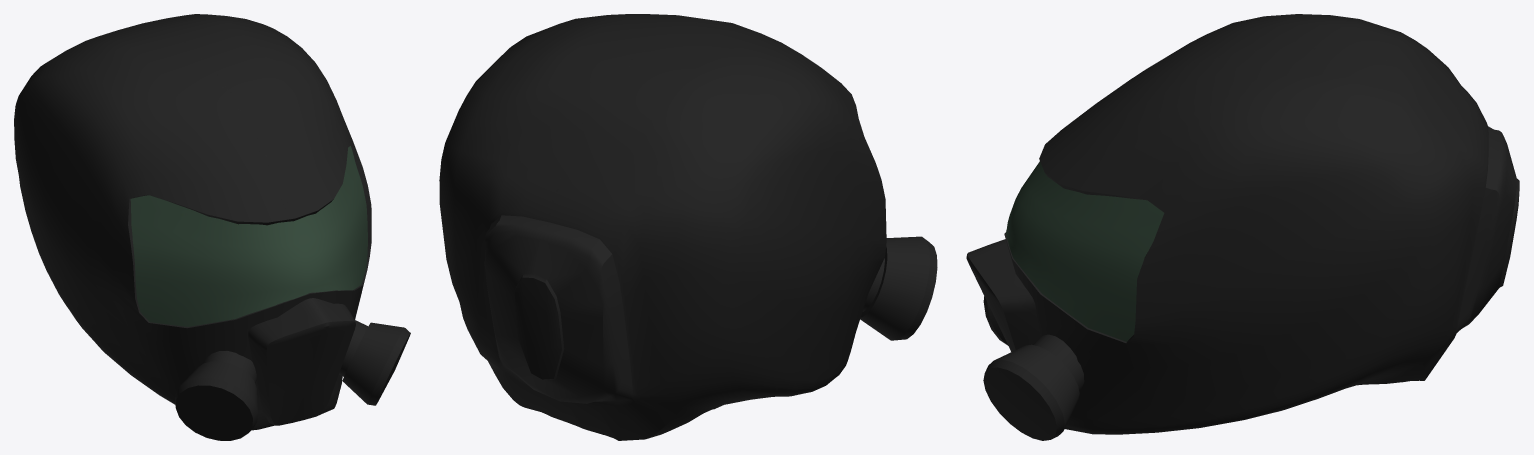
Rendered from body.001.fbx.
3 renders of one model, left to right at view 1: azimuth 30°, elevation 25°; view 2: azimuth 150°, elevation 25°; view 3: azimuth 270°, elevation 25°, orthographic. The views are drawn at different scales.
Visible parts, largest first — view 1: body.001_Baked; view 2: body.001_Baked; view 3: body.001_Baked.
Boxes of the visible parts, left/top/right/bottom form: body.001_Baked: left=14, top=14, right=410, bottom=440; body.001_Baked: left=439, top=14, right=937, bottom=440; body.001_Baked: left=966, top=14, right=1519, bottom=440.
Size of the model in its own units: 74.19 by 81.72 by 115.
1 material, 1 textured.
